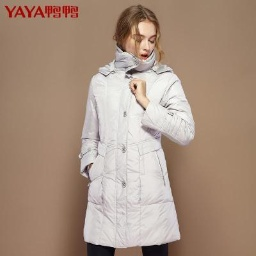face: (110, 1, 171, 72)
